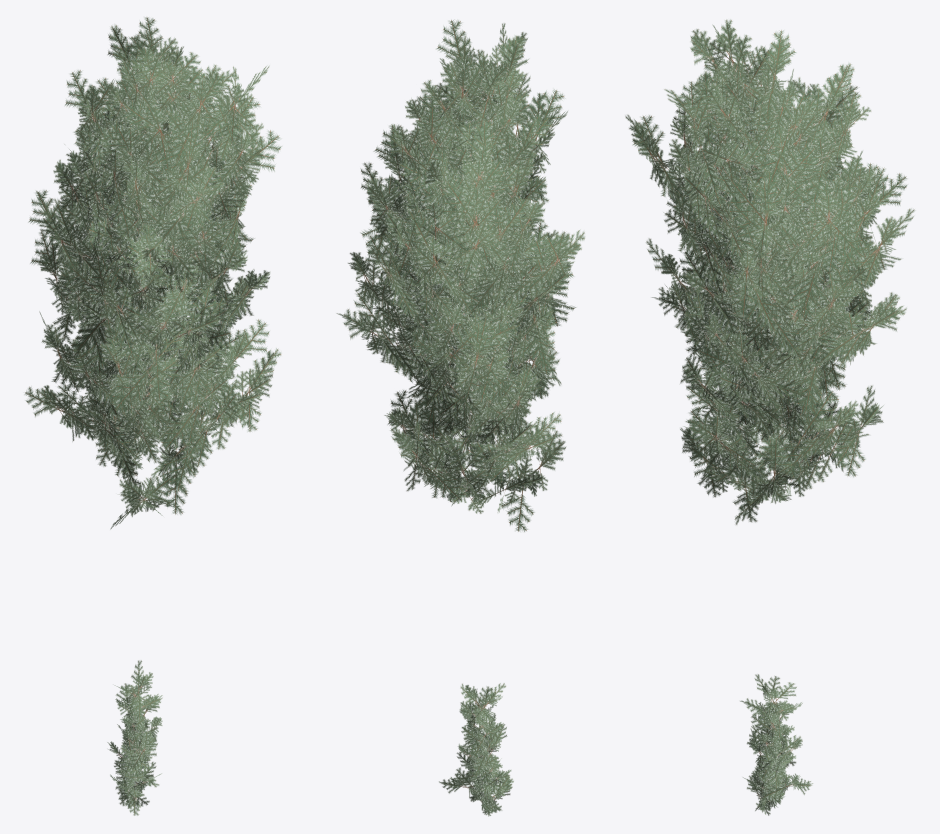
The model's file is pine_leaf.glb.
The picture shows the model from 3 angles, left to right: view 1: azimuth 30°, elevation 25°; view 2: azimuth 150°, elevation 25°; view 3: azimuth 270°, elevation 25°; orthographic projection. The views are drawn at different scales.
Parts seen in each view (by area): view 1: pine_c, pine_c_l1, pine_c_l2, pine_b_l2, pine_b_l1, pine_b, pine_a_l2, pine_a_l1, pine_a, pine_sap_b_l2, pine_sap_b, pine_sap_b_l1 (+3 smaller); view 2: pine_a_l2, pine_a_l1, pine_c_l1, pine_a, pine_c, pine_c_l2, pine_b_l2, pine_b, pine_b_l1, pine_sap_b_l2, pine_sap_b_l1, pine_sap_b (+3 smaller); view 3: pine_c, pine_c_l1, pine_c_l2, pine_a_l2, pine_b_l2, pine_a_l1, pine_b, pine_a, pine_b_l1, pine_sap_b_l2, pine_sap_b, pine_sap_b_l1 (+2 smaller).
Part boxes in pixels (bbox=[...]): pine_c: bbox=[50, 38, 269, 367]; pine_c_l1: bbox=[46, 37, 264, 370]; pine_c_l2: bbox=[28, 17, 281, 383]; pine_b_l2: bbox=[24, 185, 281, 529]; pine_b_l1: bbox=[38, 205, 271, 515]; pine_b: bbox=[45, 212, 265, 516]; pine_a_l2: bbox=[30, 70, 254, 419]; pine_a_l1: bbox=[40, 85, 253, 405]; pine_a: bbox=[39, 95, 245, 392]; pine_sap_b_l2: bbox=[115, 660, 162, 805]; pine_sap_b: bbox=[108, 675, 162, 790]; pine_sap_b_l1: bbox=[107, 672, 159, 798]; pine_a_l2: bbox=[336, 117, 575, 440]; pine_a_l1: bbox=[363, 120, 568, 432]; pine_c_l1: bbox=[350, 32, 574, 372]; pine_a: bbox=[356, 118, 572, 433]; pine_c: bbox=[348, 36, 581, 372]; pine_c_l2: bbox=[356, 20, 584, 390]; pine_b_l2: bbox=[388, 208, 561, 531]; pine_b: bbox=[387, 214, 554, 513]; pine_b_l1: bbox=[384, 221, 565, 506]; pine_sap_b_l2: bbox=[439, 683, 507, 811]; pine_sap_b_l1: bbox=[450, 685, 509, 803]; pine_sap_b: bbox=[453, 689, 511, 797]; pine_c: bbox=[637, 27, 871, 395]; pine_c_l1: bbox=[632, 25, 875, 390]; pine_c_l2: bbox=[625, 19, 864, 398]; pine_a_l2: bbox=[646, 77, 914, 427]; pine_b_l2: bbox=[680, 214, 876, 524]; pine_a_l1: bbox=[662, 84, 900, 405]; pine_b: bbox=[683, 234, 876, 508]; pine_a: bbox=[660, 91, 899, 406]; pine_b_l1: bbox=[682, 224, 883, 509]; pine_sap_b_l2: bbox=[740, 674, 812, 801]; pine_sap_b: bbox=[748, 685, 801, 794]; pine_sap_b_l1: bbox=[748, 683, 804, 804].
Size of the model in its own units: 8.14 by 26.37 by 9.14.
Materials: 1 (1 with a texture image).
